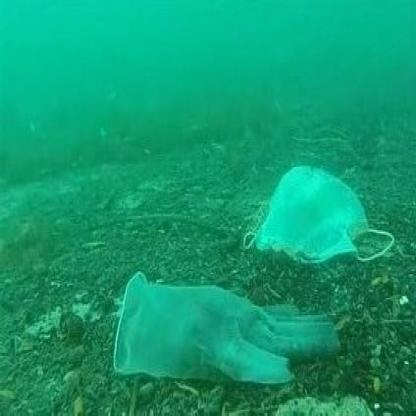Mask: (242, 162, 396, 266)
glove: (113, 271, 341, 386)
